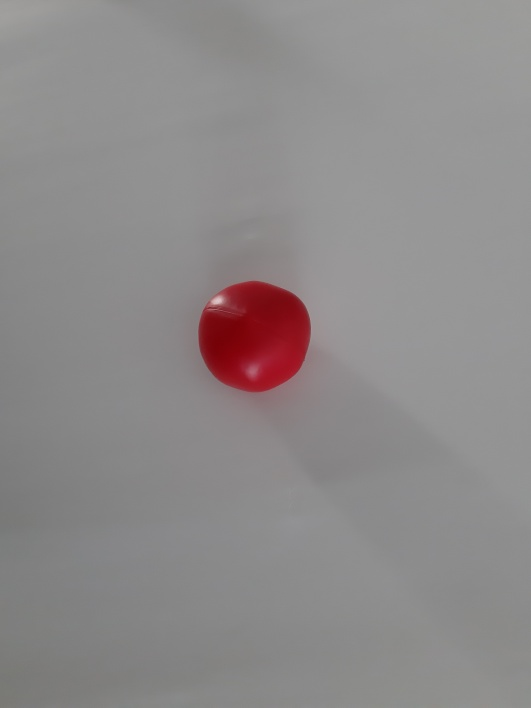tomato: (190, 273, 317, 406)
